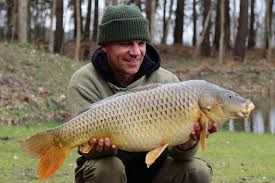carp: (21, 79, 256, 183)
